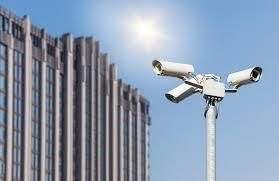tutu: (225, 66, 267, 87), (149, 59, 195, 78), (160, 82, 196, 103)
